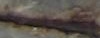Exposed reinforcement: (1, 15, 100, 38)
